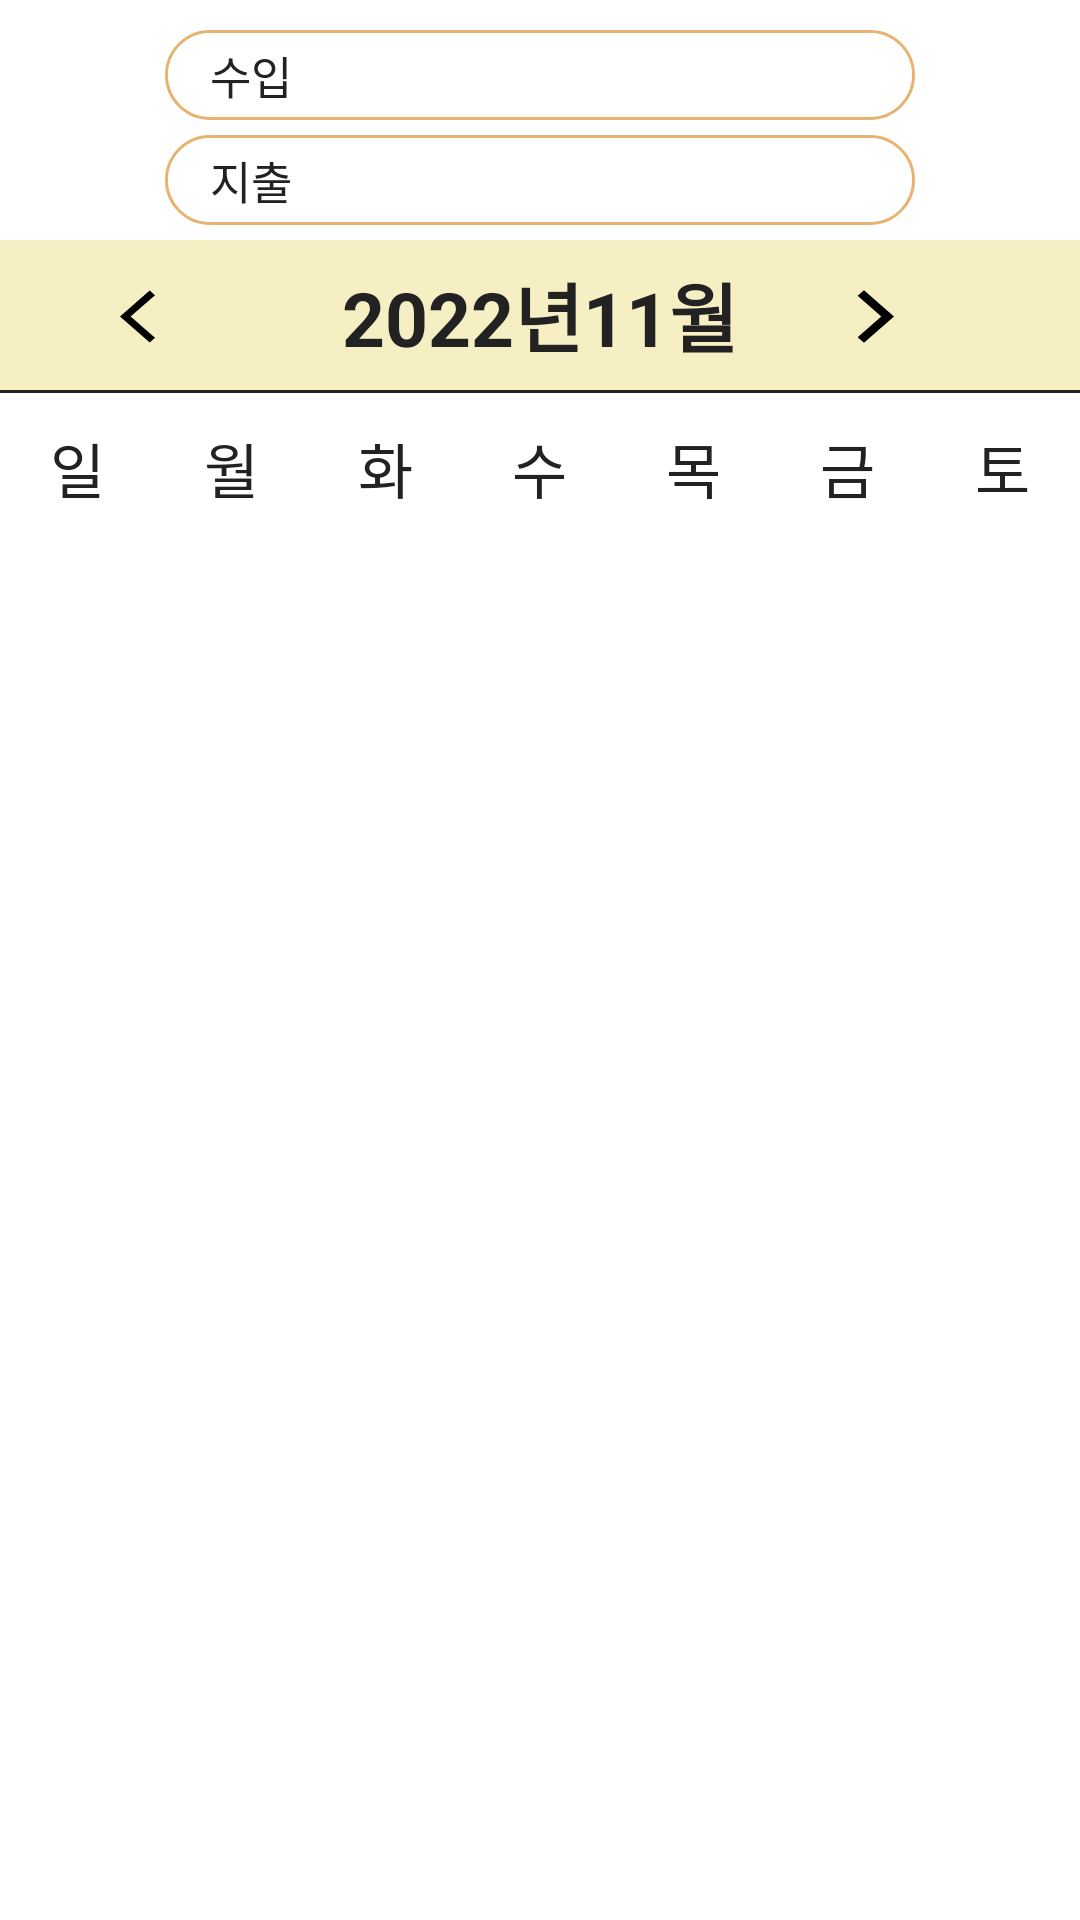

Icon bounding boxes for this 1080*1920 phone screenshot, format (x1, y1, x2, y2):
left: (120, 290, 155, 343)
right: (857, 290, 894, 343)
